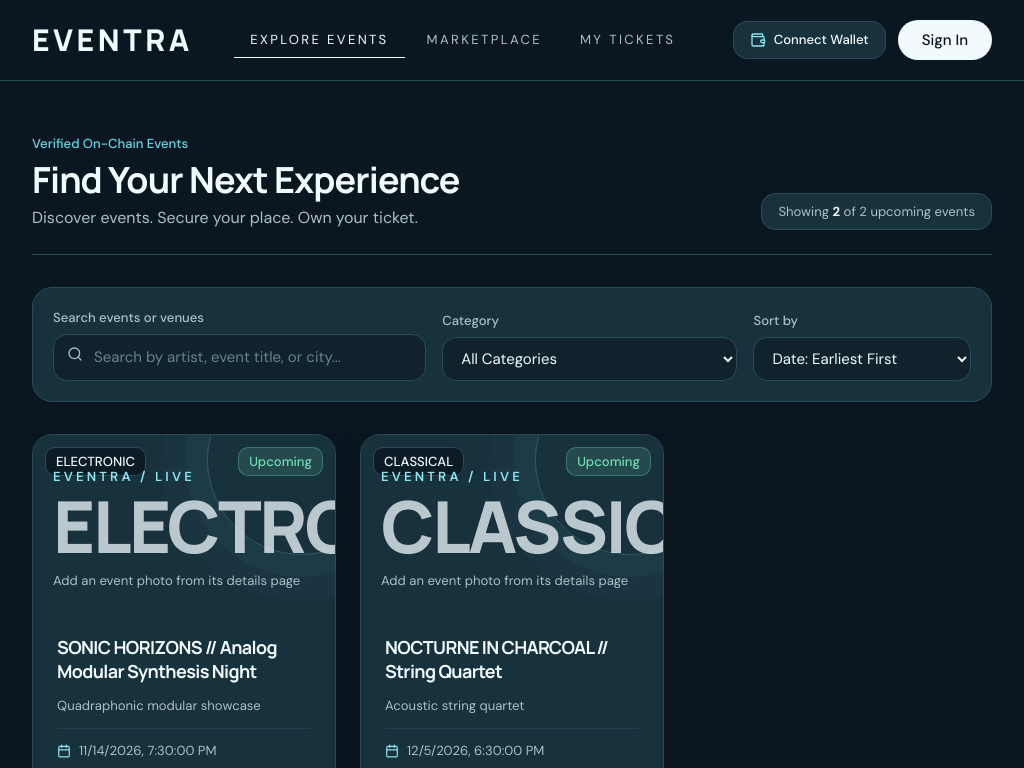
Test case: EVENTRA Frontend Suite › 3. Filters Events by search query and category
Check: the heading "SONIC HORIZONS // Analog Modular Synthesis Night" is shown, box [57,635,311,684]
Check: the heading "NOCTURNE IN CHARCOAL // String Quartet" is shown, box [385,635,639,684]
Type "NOCTURNE" into the field labelled "Search events or venues" at [240, 357], box [53,334,426,381]
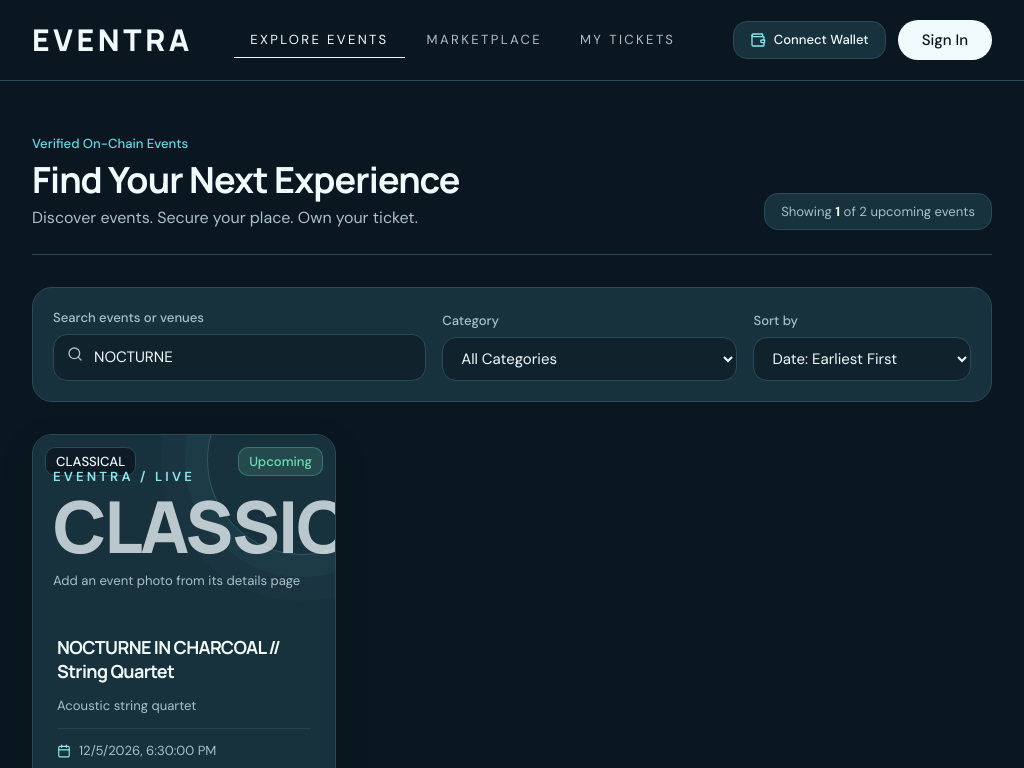
Check: the heading "NOCTURNE IN CHARCOAL // String Quartet" is shown, box [57,635,311,684]
Check: no headings "SONIC HORIZONS // Analog Modular Synthesis Night" are shown
